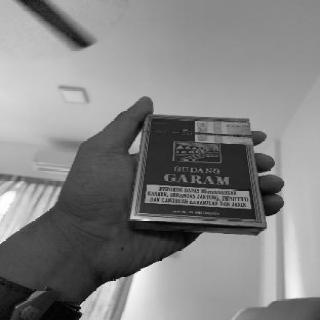objects: (130, 114, 266, 236)
